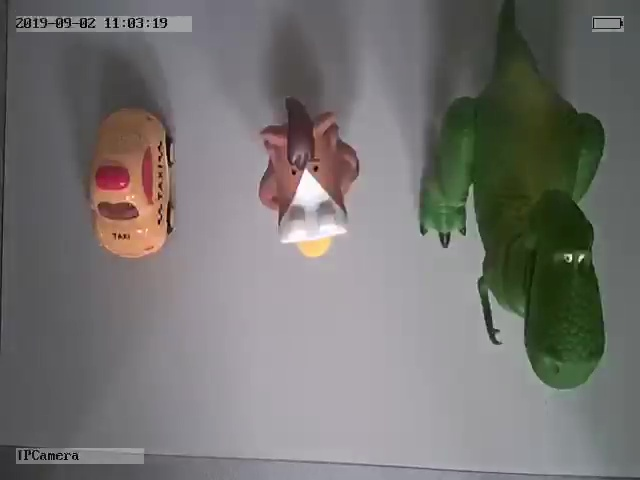car: (88, 105, 178, 259)
horse: (257, 95, 360, 259)
rex: (417, 11, 607, 391)
